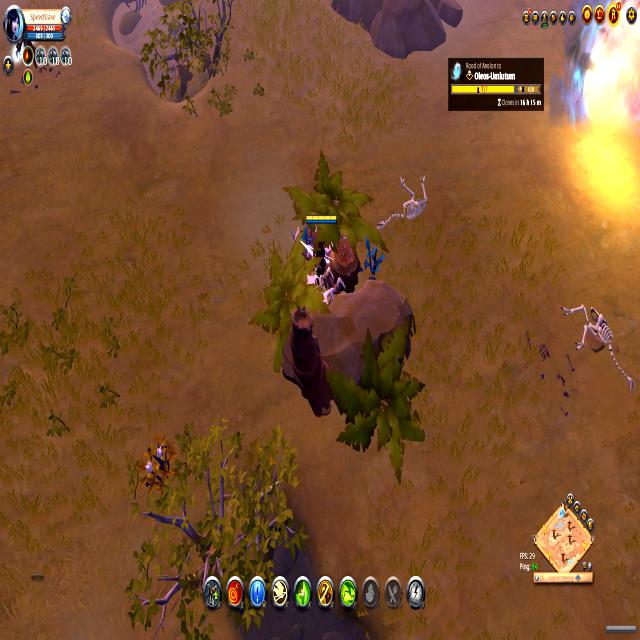hide: (136, 431, 178, 500)
red: (304, 212, 338, 282)
